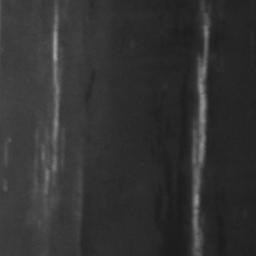Bright scratch: (191, 14, 210, 256), (52, 0, 60, 150)
